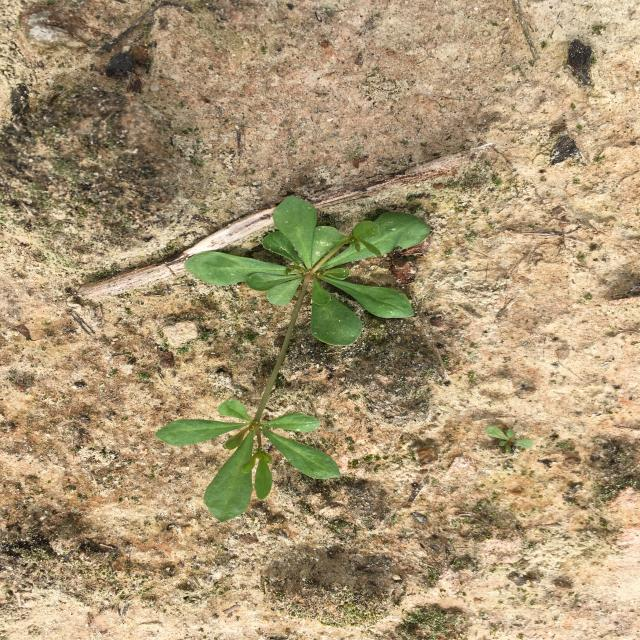Carpetweed: (154, 195, 431, 522), (486, 426, 534, 453)
